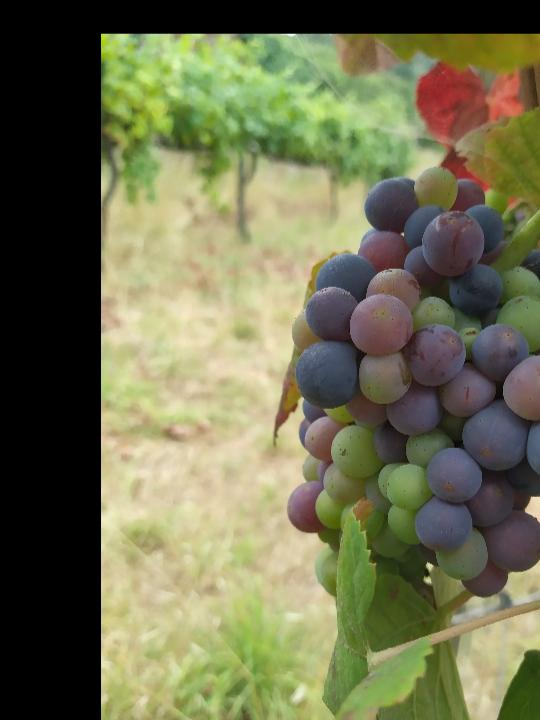grape: (283, 164, 540, 602)
